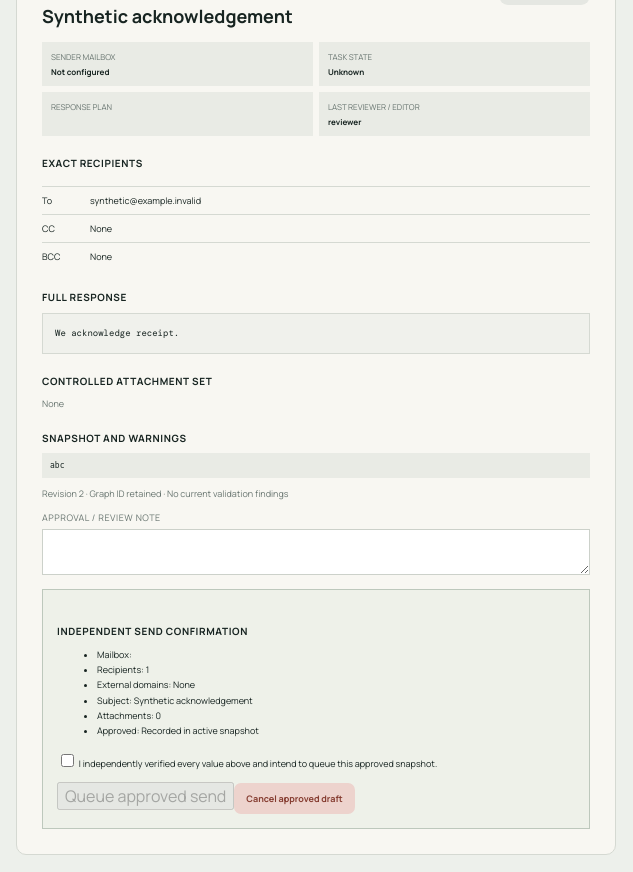
Test case: requires an explicit confirmation before queueing an approved send
(page scrolled)
Check: the button "Queue approved send" is disabled, box [57,782,234,810]
What coordinates should you click on to do the following:
click the checkbox
I would click on:
 (68, 760)
Its box is [61,754,74,766].
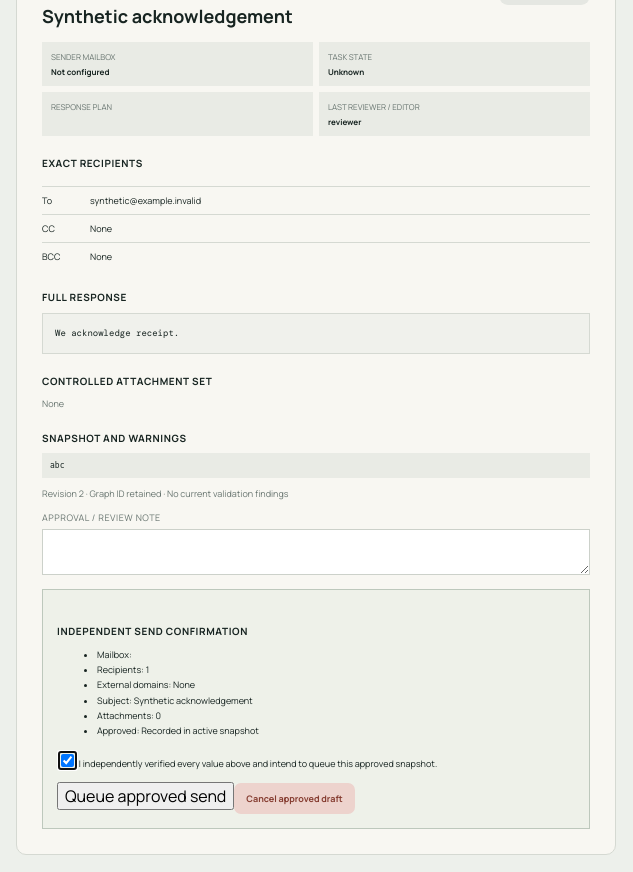
Check: the button "Queue approved send" is enabled, box [57,782,234,810]
